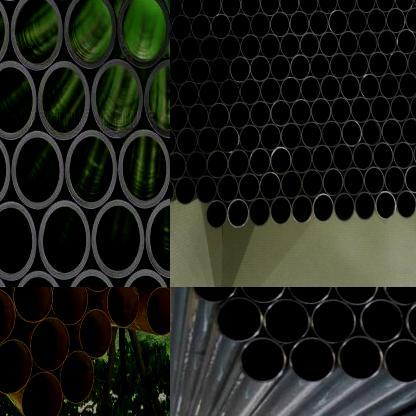pipe: (64, 130, 118, 209), (38, 60, 90, 141), (38, 200, 90, 280), (92, 199, 144, 279), (91, 58, 143, 138), (118, 129, 170, 208), (12, 132, 64, 209), (10, 0, 63, 70), (64, 0, 117, 69), (117, 0, 170, 69), (0, 200, 36, 281), (0, 61, 36, 140), (30, 318, 70, 372), (240, 336, 286, 382), (264, 298, 310, 344), (144, 58, 170, 139), (218, 297, 264, 342), (289, 338, 336, 382), (310, 300, 357, 344), (145, 198, 170, 278), (338, 336, 382, 380), (360, 298, 404, 342), (60, 350, 95, 404), (0, 339, 33, 394), (21, 372, 62, 416), (78, 309, 112, 359), (384, 338, 416, 382), (13, 287, 53, 322), (52, 287, 88, 325), (106, 287, 139, 327), (146, 287, 170, 335), (65, 269, 119, 287), (119, 269, 170, 287), (0, 288, 15, 346), (0, 131, 11, 210), (12, 271, 65, 287), (333, 287, 379, 305), (287, 287, 333, 304), (240, 287, 287, 303), (192, 287, 238, 302), (333, 192, 355, 223), (248, 198, 271, 227), (205, 201, 228, 230), (280, 170, 302, 200), (270, 196, 292, 226), (354, 192, 376, 222), (270, 146, 292, 176), (259, 172, 281, 202), (342, 167, 364, 197), (322, 168, 344, 198), (216, 174, 238, 204), (195, 176, 217, 206), (174, 176, 196, 206), (301, 169, 323, 199), (227, 199, 249, 228), (206, 150, 228, 179), (312, 194, 334, 223), (280, 122, 302, 151), (238, 173, 260, 202), (291, 195, 313, 224), (249, 148, 271, 177), (228, 149, 250, 178), (238, 124, 260, 153), (392, 141, 414, 170), (218, 125, 240, 154), (259, 123, 281, 152), (186, 151, 208, 180), (176, 127, 198, 156), (197, 126, 219, 155), (375, 191, 396, 221), (395, 190, 416, 220), (352, 142, 373, 172), (290, 98, 312, 126), (330, 97, 352, 125), (187, 104, 209, 132), (218, 79, 240, 107), (310, 98, 332, 126), (178, 80, 200, 108), (290, 146, 312, 174), (372, 142, 393, 171), (332, 143, 353, 172), (384, 166, 405, 195), (364, 166, 384, 196), (228, 102, 250, 129), (249, 101, 271, 128), (383, 287, 416, 305), (341, 120, 362, 148), (361, 119, 382, 147), (381, 118, 402, 146), (301, 122, 322, 150), (208, 102, 229, 130), (198, 80, 219, 108), (350, 96, 371, 124), (370, 96, 391, 124), (189, 58, 210, 86), (312, 144, 332, 173), (190, 14, 212, 40), (170, 15, 192, 41), (210, 14, 232, 40), (270, 100, 291, 127), (300, 76, 321, 103), (321, 121, 342, 148), (280, 77, 301, 104), (209, 57, 230, 84), (199, 35, 220, 62), (330, 52, 350, 80), (280, 32, 300, 60), (240, 78, 260, 106), (260, 78, 281, 104), (359, 74, 380, 100), (230, 13, 251, 39), (270, 55, 290, 82), (290, 54, 310, 81), (349, 52, 369, 79), (260, 34, 280, 61), (300, 32, 320, 59), (319, 31, 339, 58), (230, 57, 250, 84), (379, 73, 399, 100), (390, 95, 410, 122), (358, 30, 378, 57), (240, 34, 260, 61), (180, 36, 200, 63), (340, 74, 360, 101), (320, 75, 340, 102), (368, 51, 388, 78), (220, 35, 240, 62), (170, 58, 189, 86), (404, 300, 416, 344), (250, 56, 270, 82), (310, 54, 330, 80), (270, 12, 290, 38), (338, 31, 358, 57), (250, 12, 270, 38), (377, 30, 397, 56), (308, 10, 328, 36), (347, 9, 367, 35), (386, 8, 406, 34), (366, 8, 386, 34), (290, 11, 310, 37), (388, 51, 408, 77), (328, 10, 348, 36), (170, 104, 188, 132), (396, 29, 416, 54), (398, 72, 416, 99), (170, 152, 186, 181), (401, 117, 416, 145), (181, 0, 202, 19), (221, 0, 241, 18), (201, 0, 221, 18), (260, 0, 280, 17), (240, 0, 260, 17), (404, 165, 416, 193), (279, 0, 299, 16), (298, 0, 318, 15), (405, 7, 416, 33), (337, 0, 356, 14), (318, 0, 337, 14), (356, 0, 375, 13), (170, 36, 179, 63), (170, 0, 182, 20), (375, 0, 395, 12), (407, 50, 416, 76), (394, 0, 413, 12), (170, 81, 178, 109), (409, 94, 416, 122), (170, 128, 176, 157), (170, 178, 175, 207)
